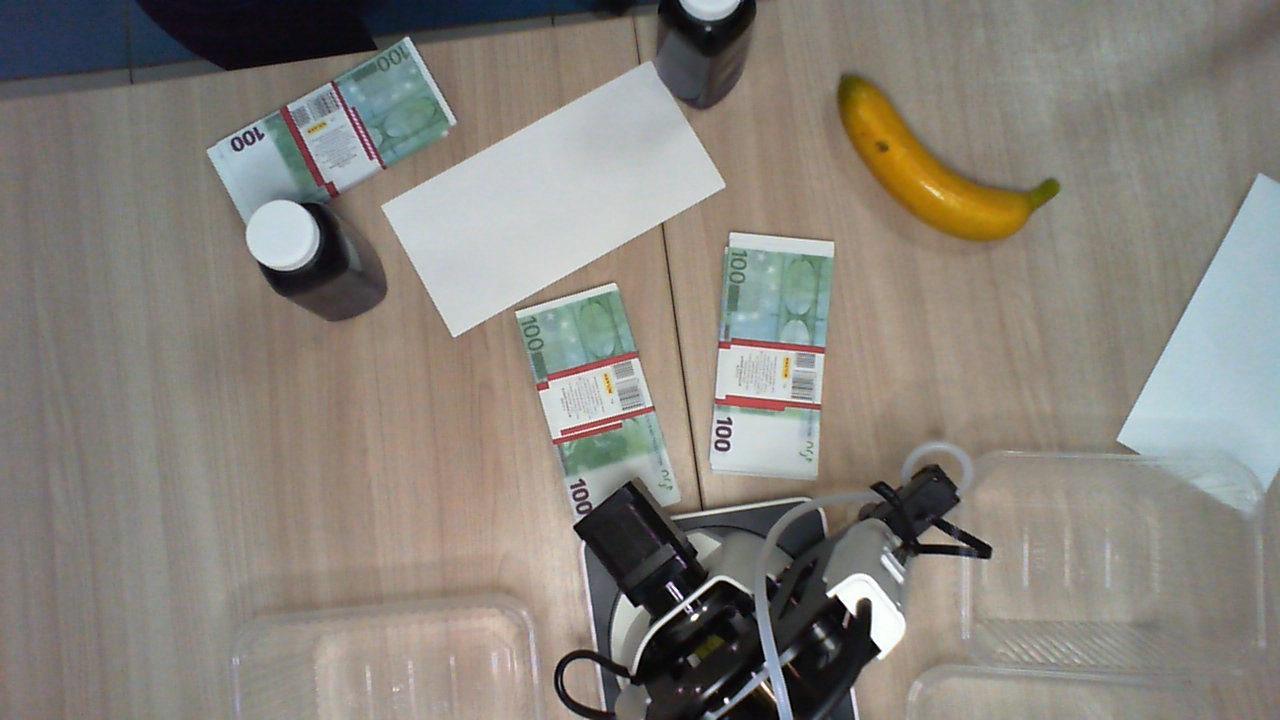banana: (836, 71, 1063, 244)
bottle: (243, 201, 343, 287), (660, 1, 755, 53)
convert: (383, 61, 726, 337), (1116, 171, 1278, 512)
money: (207, 33, 456, 230), (515, 280, 682, 523), (708, 233, 837, 479)
